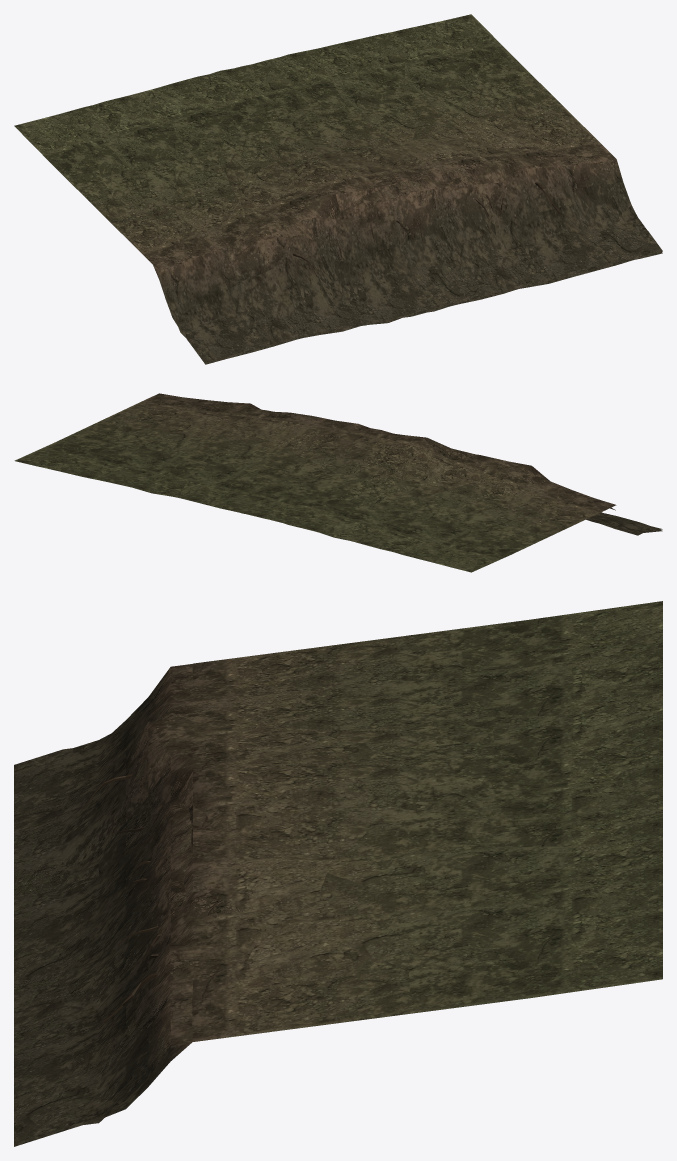
The model's file is fdx-bank-earth.glb.
The picture shows the model from 3 angles, top to bottom: view 1: azimuth 30°, elevation 25°; view 2: azimuth 150°, elevation 25°; view 3: azimuth 270°, elevation 25°; orthographic projection. The views are drawn at different scales.
Visible parts, largest first — view 1: fdx_bank_earth_b_lod0, fdx_bank_earth_c_lod0, fdx_bank_earth_a_lod0; view 2: fdx_bank_earth_c_lod0, fdx_bank_earth_a_lod0, fdx_bank_earth_b_lod0; view 3: fdx_bank_earth_c_lod0, fdx_bank_earth_b_lod0, fdx_bank_earth_a_lod0.
Boxes of the visible parts, x1=… form: fdx_bank_earth_b_lod0: x1=24, y1=20, x2=662, y2=363; fdx_bank_earth_c_lod0: x1=14, y1=14, x2=662, y2=364; fdx_bank_earth_a_lod0: x1=14, y1=14, x2=662, y2=362; fdx_bank_earth_c_lod0: x1=14, y1=396, x2=662, y2=571; fdx_bank_earth_a_lod0: x1=15, y1=398, x2=662, y2=572; fdx_bank_earth_b_lod0: x1=41, y1=393, x2=662, y2=567; fdx_bank_earth_c_lod0: x1=14, y1=601, x2=662, y2=1146; fdx_bank_earth_b_lod0: x1=14, y1=627, x2=662, y2=1142; fdx_bank_earth_a_lod0: x1=14, y1=601, x2=662, y2=1143.
Size of what is drawn, in the model's own units: 4 by 0.8899 by 2.9.
1 material, 1 textured.
